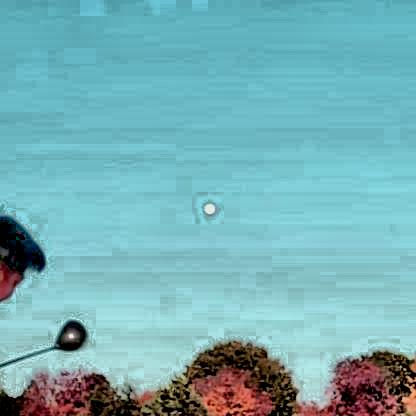golfball: (200, 199, 214, 214)
